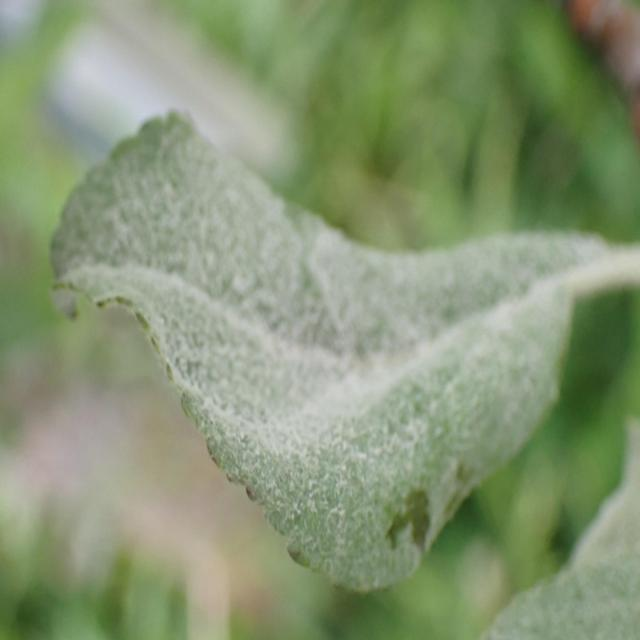Powdery_mildew: (37, 86, 604, 601)
